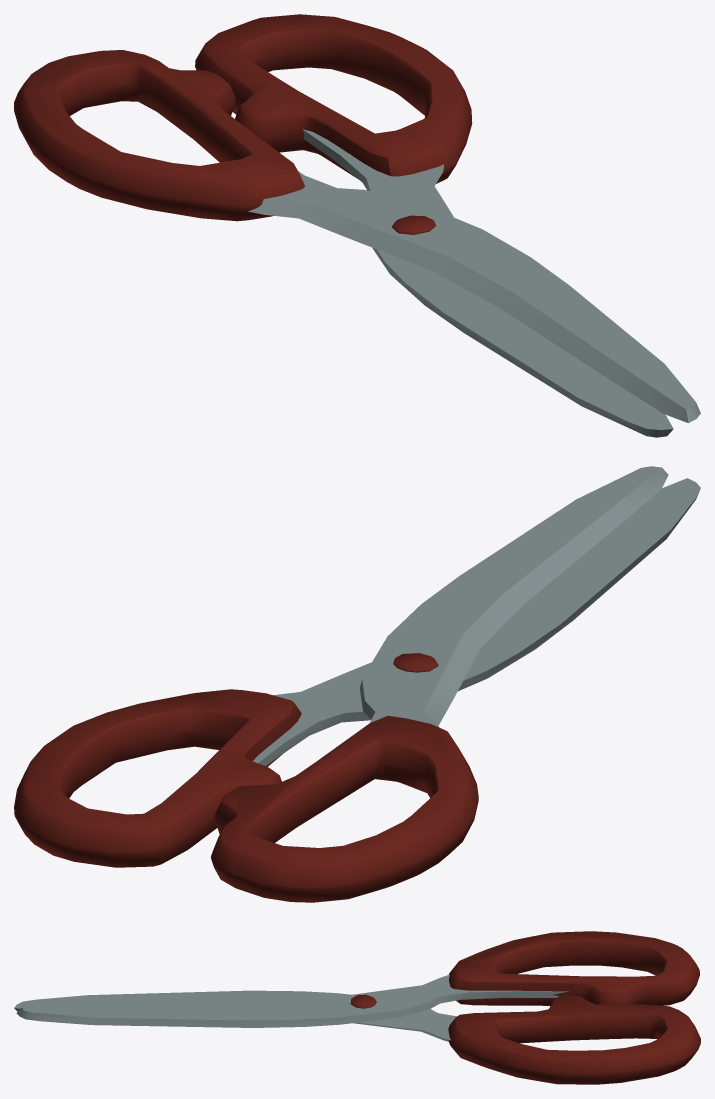
The model's file is Scissors.fbx.
3 views of the same model, one above another, from view 1: azimuth 30°, elevation 25°; view 2: azimuth 150°, elevation 25°; view 3: azimuth 270°, elevation 25° (orthographic). The views are drawn at different scales.
Parts seen in each view (by area): view 1: Scissors-1, Scissors-2; view 2: Scissors-1, Scissors-2; view 3: Scissors-1, Scissors-2.
Boxes of the visible parts, x1=… form: Scissors-1: x1=14, y1=50, x2=700, y2=423; Scissors-2: x1=195, y1=14, x2=673, y2=437; Scissors-1: x1=210, y1=466, x2=668, y2=902; Scissors-2: x1=14, y1=478, x2=700, y2=867; Scissors-1: x1=16, y1=931, x2=699, y2=1027; Scissors-2: x1=14, y1=990, x2=700, y2=1084.
Bounding box in the file's own units: 0.1621 × 0.0187 × 0.3675.
